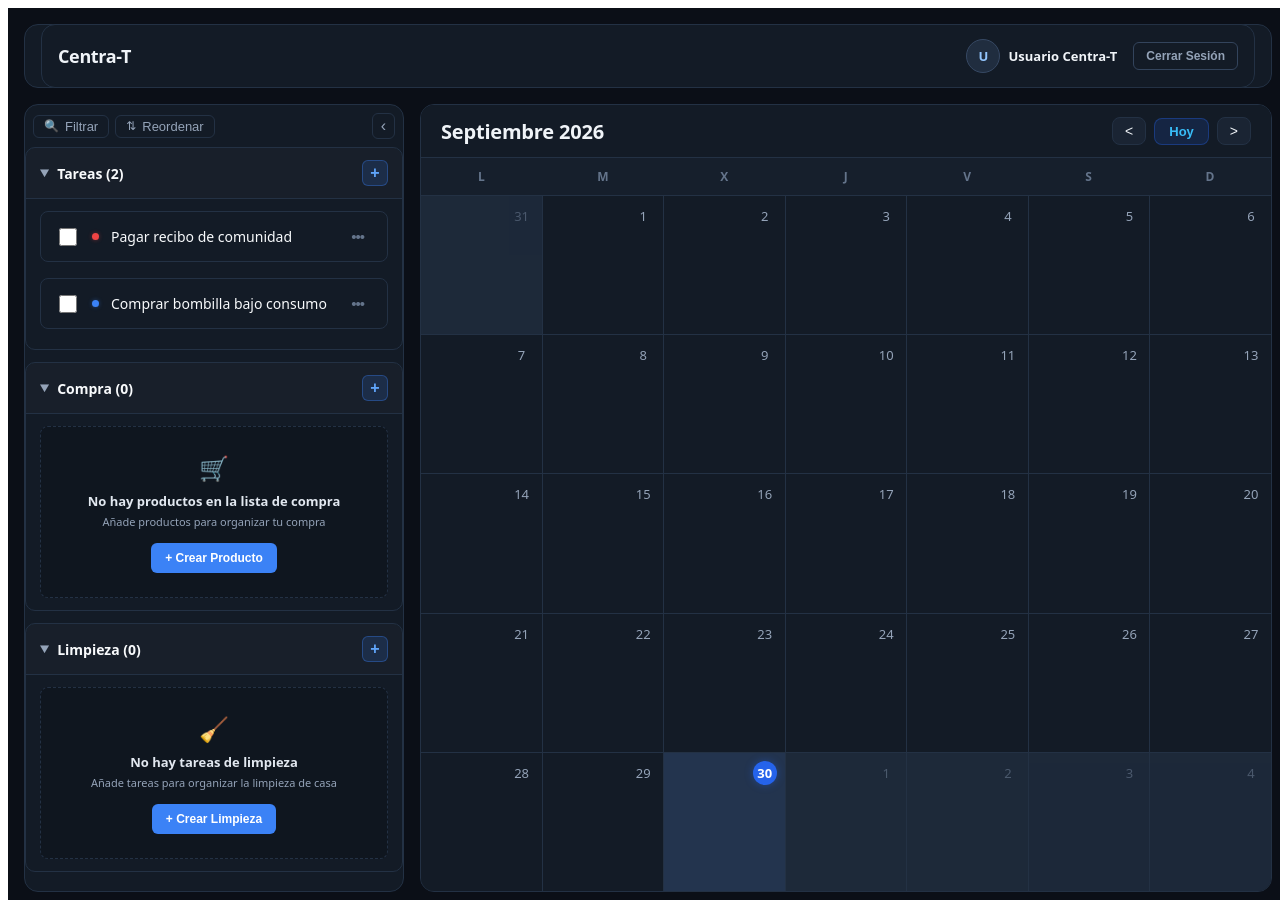
App Root Integration - Filtrado Reactivo y Reordenación en Caliente (RV-A06) › Resiliencia y Rollback Optimista con Toast Empático (RV-A08 / FIA-A08.02) › cerrar el Toast pulsando [×] descarta la notificación
Click the checkbox named "completar tarea pagar recibo de comunidad". click: (68, 236)
box: [59,228,77,246]
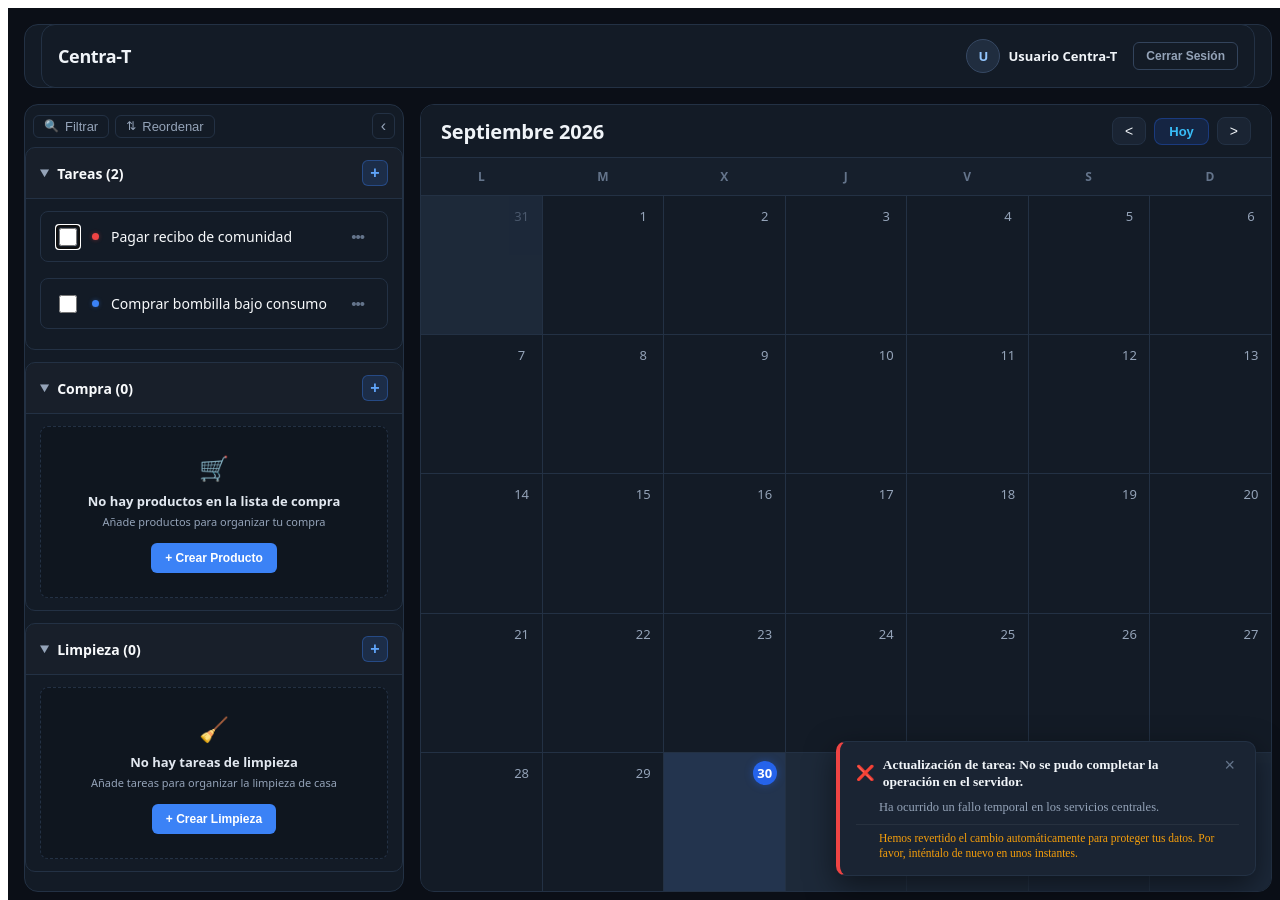
Now the message is shown, box [836,740,1256,876]
Click the button named "cerrar notificación". click: (1230, 764)
box: [1220,756,1239,774]
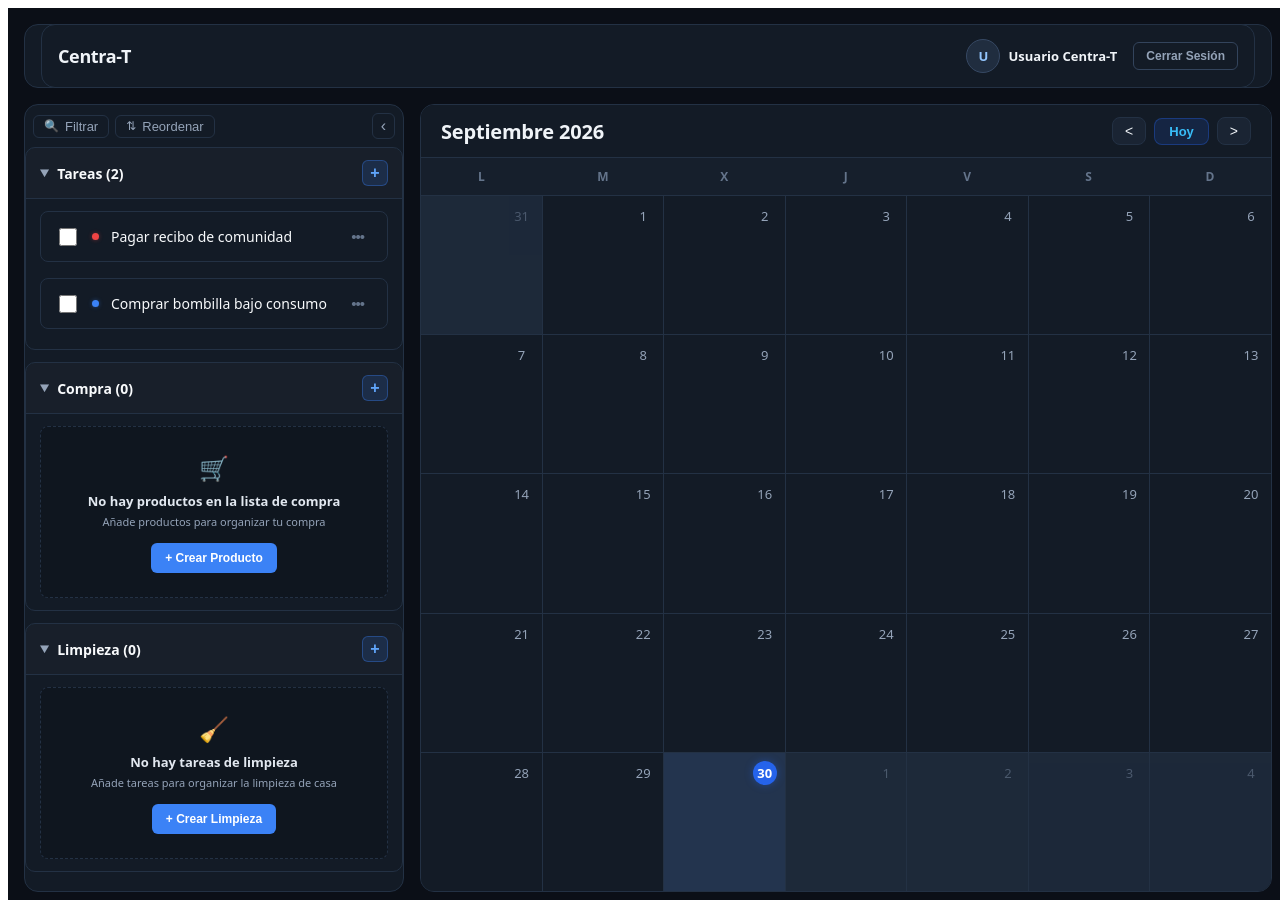
Now the message is gone
